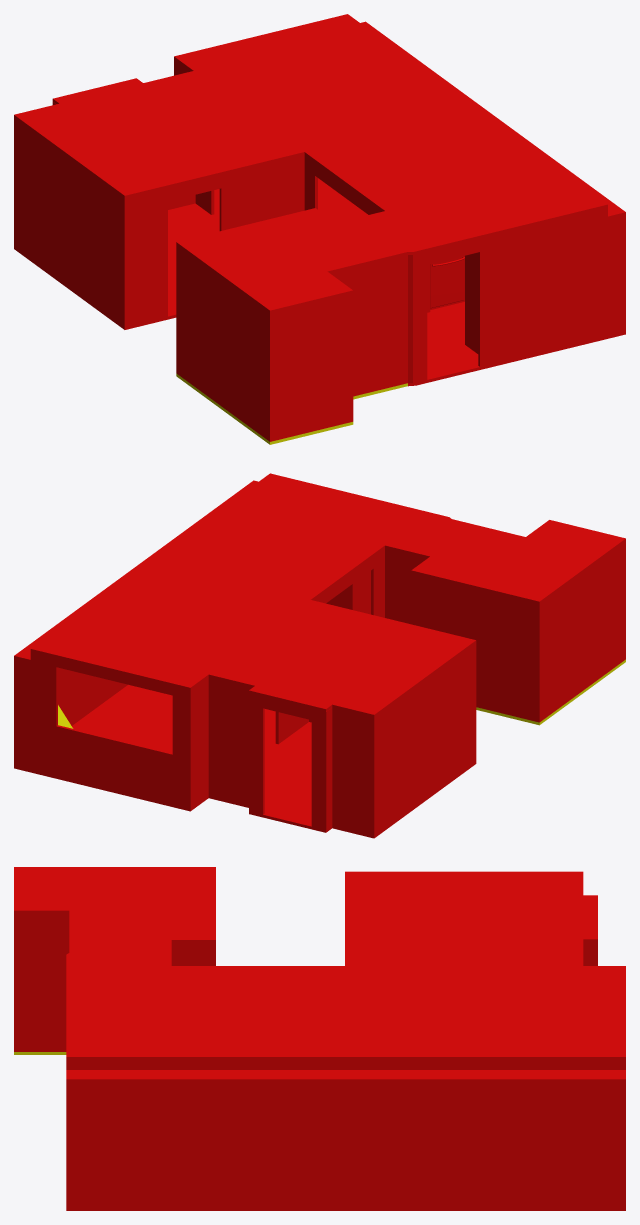
File: val_house_01_grp.fbx
The picture shows the model from 3 angles, top to bottom: view 1: azimuth 30°, elevation 25°; view 2: azimuth 150°, elevation 25°; view 3: azimuth 270°, elevation 25°; orthographic projection. The views are drawn at different scales.
Parts seen in each view (by area): view 1: val_house_01_walls, val_house_01_ceiling, val_house_01_floor, val_house_01_countertop_2_dishwasher; view 2: val_house_01_walls, val_house_01_ceiling, val_house_01_floor; view 3: val_house_01_ceiling, val_house_01_walls, val_house_01_floor.
Part boxes in pixels (bbox=[...]): val_house_01_walls: bbox=[14, 21, 625, 441]; val_house_01_ceiling: bbox=[14, 14, 607, 313]; val_house_01_floor: bbox=[14, 178, 625, 444]; val_house_01_countertop_2_dishwasher: bbox=[430, 256, 464, 308]; val_house_01_walls: bbox=[14, 480, 625, 835]; val_house_01_ceiling: bbox=[30, 473, 625, 717]; val_house_01_floor: bbox=[14, 659, 625, 838]; val_house_01_ceiling: bbox=[14, 867, 625, 1060]; val_house_01_walls: bbox=[14, 914, 625, 1207]; val_house_01_floor: bbox=[14, 1052, 625, 1210].
Size of the model in its own units: 717 by 242 by 929.
